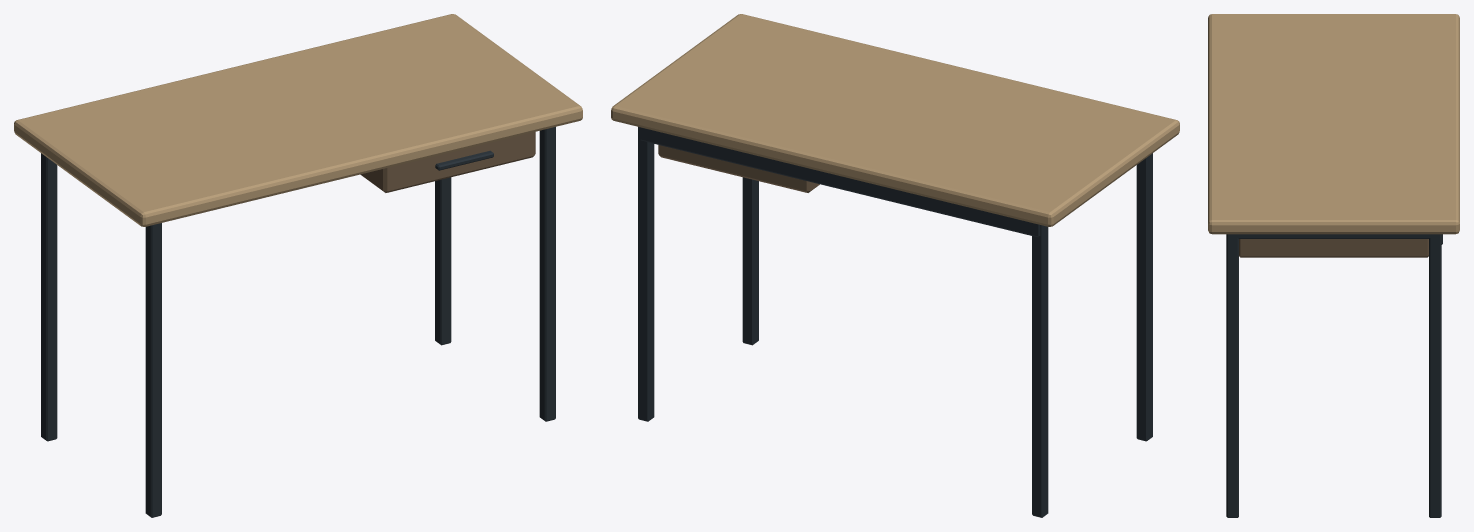
File: desk_small.glb
3 renders of one model, left to right at view 1: azimuth 30°, elevation 25°; view 2: azimuth 150°, elevation 25°; view 3: azimuth 270°, elevation 25°, orthographic. The views are drawn at different scales.
Parts seen in each view (by area): view 1: desk_small; view 2: desk_small; view 3: desk_small.
Part boxes in pixels (x1,y1,x2,y2): desk_small: (14, 14, 582, 517); desk_small: (611, 14, 1179, 517); desk_small: (1208, 14, 1459, 517).
Bounding box in the file's own units: 1.1 × 0.75 × 0.56.
